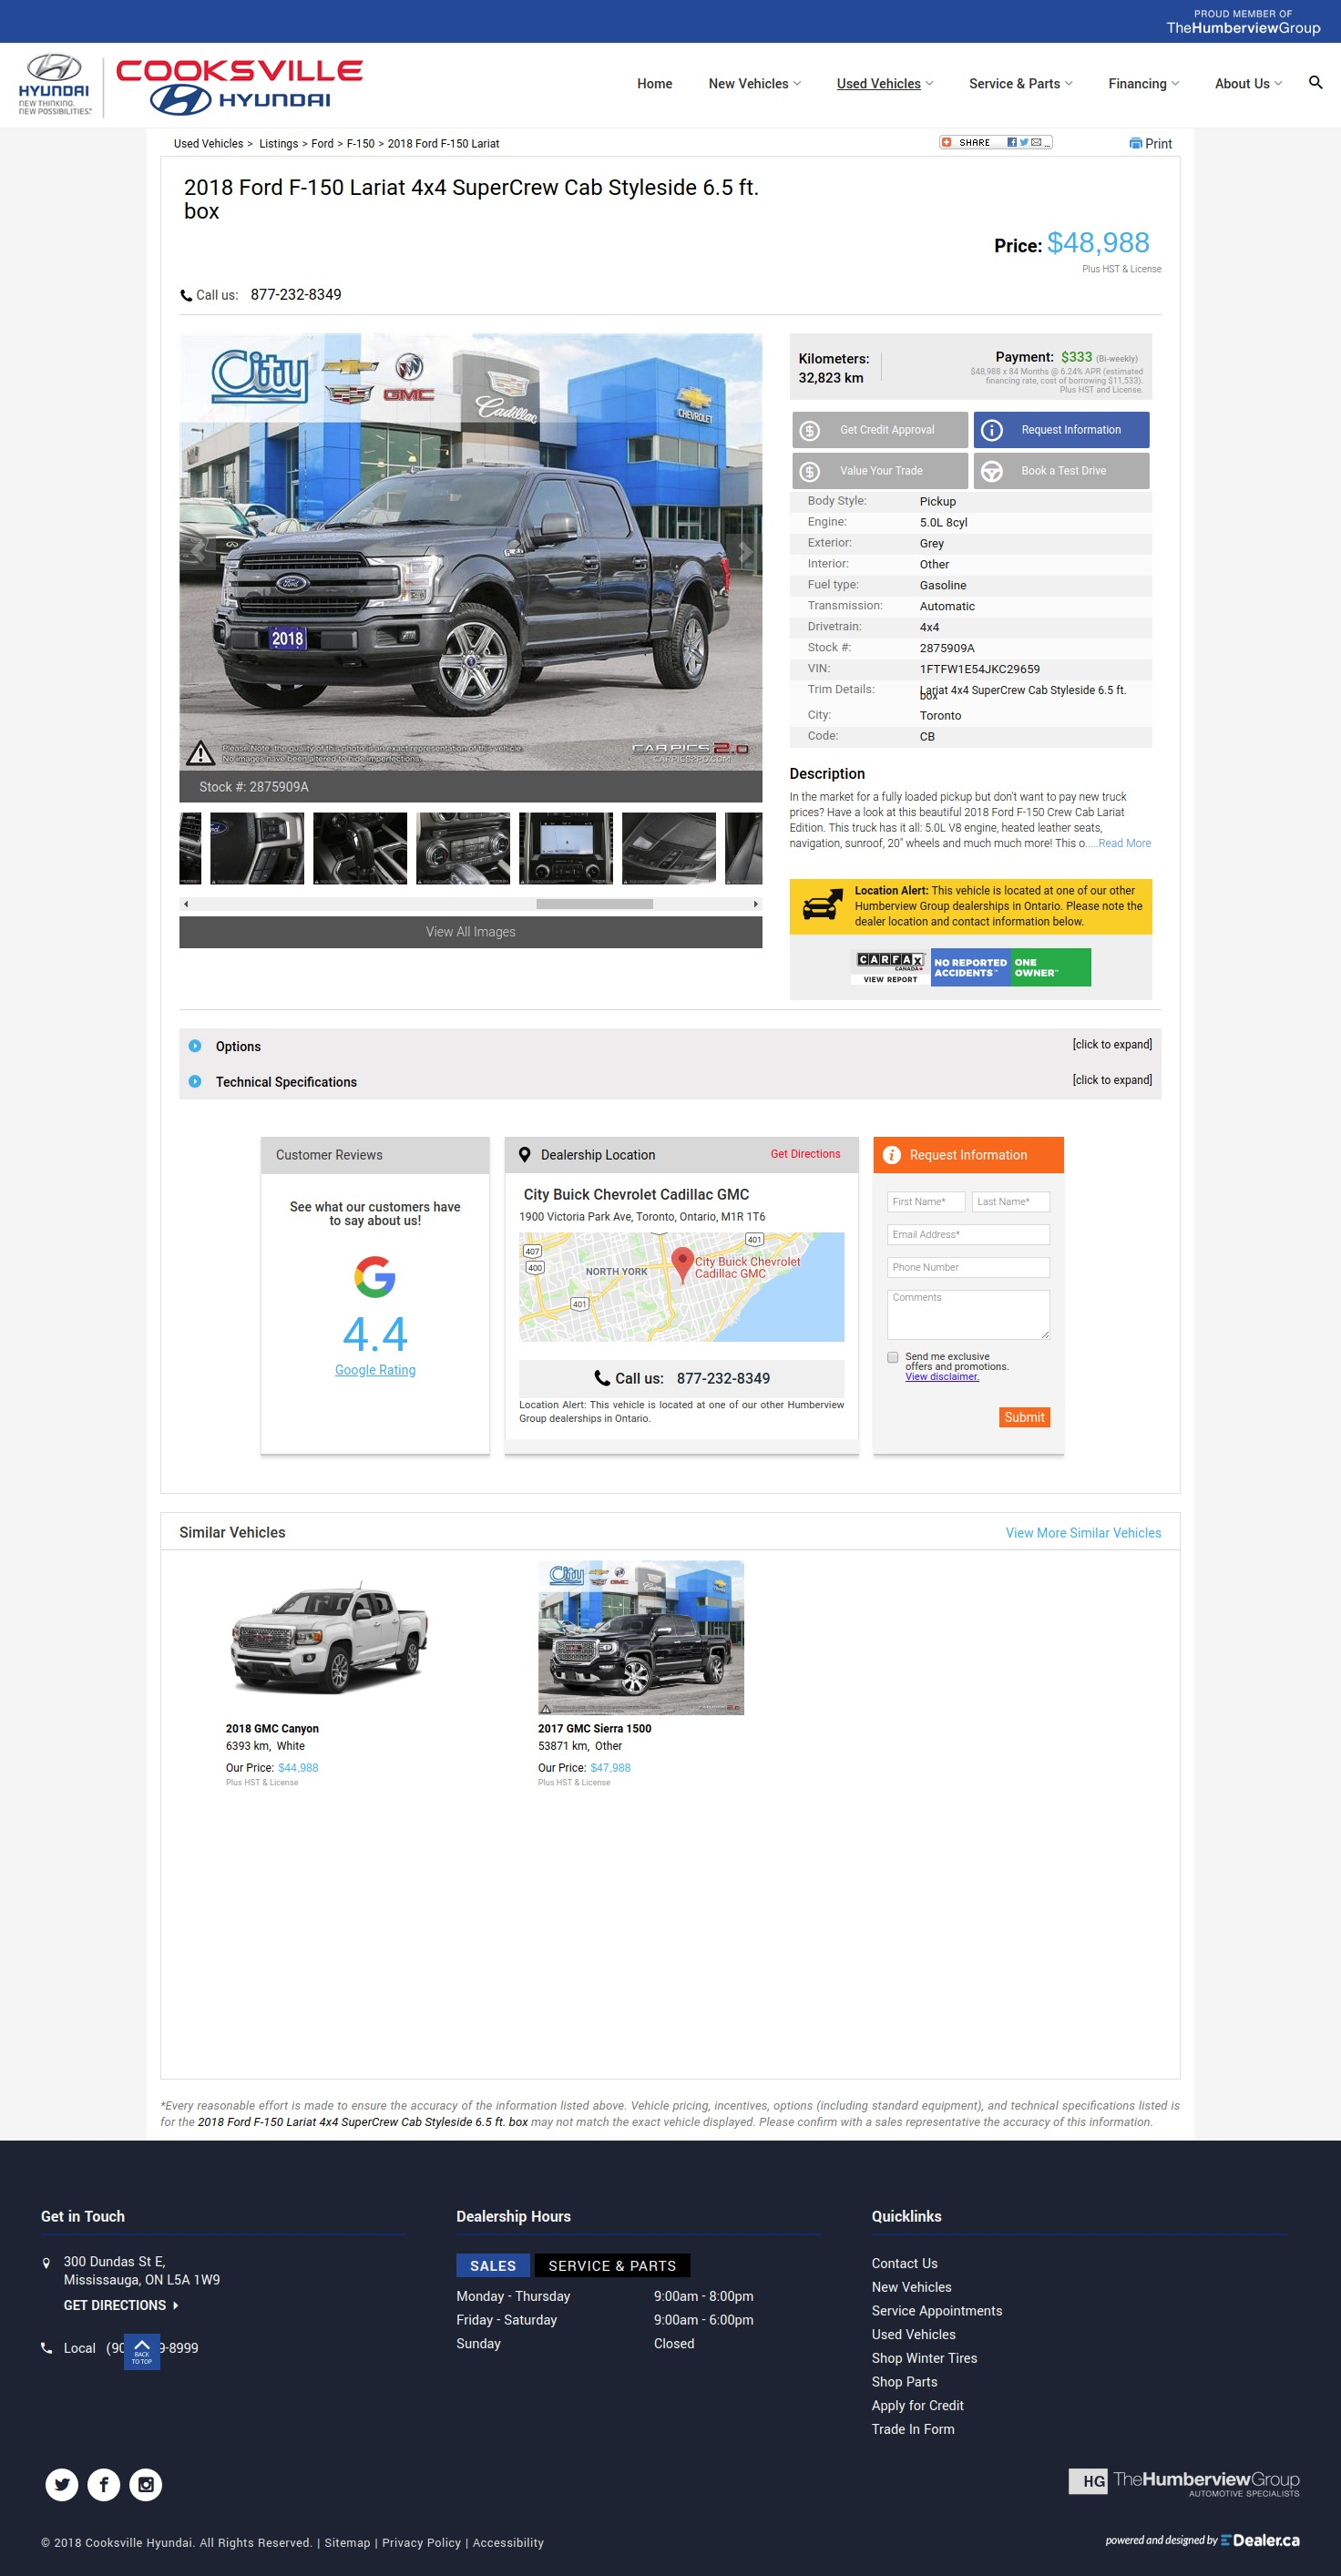car: (755, 901, 758, 910)
